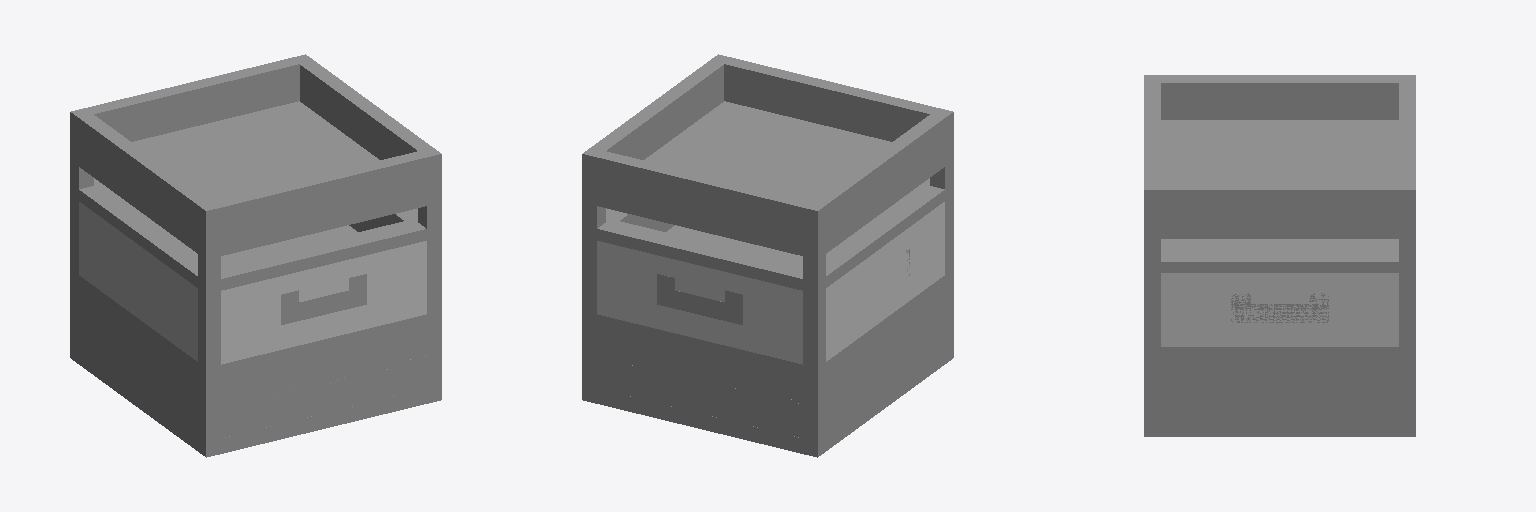
File: firepit.obj
The picture shows the model from 3 angles: view 1: azimuth 30°, elevation 25°; view 2: azimuth 150°, elevation 25°; view 3: azimuth 270°, elevation 25°; orthographic projection.
Visible parts, largest first — view 1: IngotHolderBase_Cube.026, FuelHolderWallNegY_Cube.003, DestroyedMetalHolderWallNegY_Cube.015, DestroyedMetalBasin_Cube.019, IngotHolderRimNegY_Cube.038, FuelHolderWallNegX_Cube.016, DestroyedMetalHolderWallNegX_Cube.004, IngotHolderRimPosY_Cube.037, IngotHolderRimNegX_Cube.035, FuelHolderBottom_Cube.001, IngotHolderRimPosX_Cube.036, DestroyedMetalBasinConnectorNegY_Cube.022 (+9 smaller); view 2: IngotHolderBase_Cube.026, FuelHolderWallPosY_Cube.002, DestroyedMetalHolderWallPosY_Cube.013, DestroyedMetalBasin_Cube.019, IngotHolderRimPosY_Cube.037, FuelHolderWallNegX_Cube.016, DestroyedMetalHolderWallNegX_Cube.004, IngotHolderRimNegY_Cube.038, IngotHolderRimNegX_Cube.035, FuelHolderBottom_Cube.001, IngotHolderRimPosX_Cube.036, DestroyedMetalBasinConnectorPosY_Cube.023 (+9 smaller); view 3: IngotHolderBase_Cube.026, FuelHolderWallPosX_Cube.005, DestroyedMetalHolderWallPosX_Cube.014, IngotHolderRimNegX_Cube.035, IngotHolderRimPosX_Cube.036, DestroyedMetalBasin_Cube.019, FuelHolderBottom_Cube.001, IngotHolderRimPosY_Cube.037, IngotHolderRimNegY_Cube.038, FuelHolderCornerPosXNegY_Cube.007, FuelHolderCornerPosXPosY_Cube.009, DestroyedMetalHolderCornerPosXNegY_Cube.012 (+4 smaller).
Part boxes in pixels (bbox=[...]): IngotHolderBase_Cube.026: bbox=[70, 101, 441, 259]; FuelHolderWallNegY_Cube.003: bbox=[221, 314, 426, 437]; DestroyedMetalHolderWallNegY_Cube.015: bbox=[221, 241, 426, 364]; DestroyedMetalBasin_Cube.019: bbox=[70, 178, 441, 293]; IngotHolderRimNegY_Cube.038: bbox=[213, 151, 426, 244]; FuelHolderWallNegX_Cube.016: bbox=[79, 276, 197, 435]; DestroyedMetalHolderWallNegX_Cube.004: bbox=[79, 202, 197, 361]; IngotHolderRimPosY_Cube.037: bbox=[86, 58, 299, 141]; IngotHolderRimNegX_Cube.035: bbox=[79, 114, 211, 241]; FuelHolderBottom_Cube.001: bbox=[70, 343, 441, 457]; IngotHolderRimPosX_Cube.036: bbox=[300, 61, 432, 159]; DestroyedMetalBasinConnectorNegY_Cube.022: bbox=[281, 274, 366, 324]; IngotHolderBase_Cube.026: bbox=[582, 101, 953, 259]; FuelHolderWallPosY_Cube.002: bbox=[597, 314, 802, 437]; DestroyedMetalHolderWallPosY_Cube.013: bbox=[597, 241, 802, 364]; DestroyedMetalBasin_Cube.019: bbox=[582, 178, 953, 293]; IngotHolderRimPosY_Cube.037: bbox=[597, 151, 810, 244]; FuelHolderWallNegX_Cube.016: bbox=[826, 276, 944, 435]; DestroyedMetalHolderWallNegX_Cube.004: bbox=[826, 202, 944, 361]; IngotHolderRimNegY_Cube.038: bbox=[724, 58, 937, 141]; IngotHolderRimNegX_Cube.035: bbox=[812, 114, 944, 241]; FuelHolderBottom_Cube.001: bbox=[582, 343, 953, 457]; IngotHolderRimPosX_Cube.036: bbox=[591, 61, 723, 159]; DestroyedMetalBasinConnectorPosY_Cube.023: bbox=[657, 274, 742, 324]; IngotHolderBase_Cube.026: bbox=[1144, 120, 1415, 238]; FuelHolderWallPosX_Cube.005: bbox=[1161, 347, 1398, 420]; DestroyedMetalHolderWallPosX_Cube.014: bbox=[1161, 273, 1398, 346]; IngotHolderRimNegX_Cube.035: bbox=[1161, 75, 1398, 119]; IngotHolderRimPosX_Cube.036: bbox=[1161, 183, 1398, 226]; DestroyedMetalBasin_Cube.019: bbox=[1144, 239, 1415, 272]; FuelHolderBottom_Cube.001: bbox=[1144, 421, 1415, 436]; IngotHolderRimPosY_Cube.037: bbox=[1399, 83, 1415, 182]; IngotHolderRimNegY_Cube.038: bbox=[1144, 83, 1160, 182]; FuelHolderCornerPosXNegY_Cube.007: bbox=[1144, 347, 1160, 420]; FuelHolderCornerPosXPosY_Cube.009: bbox=[1399, 347, 1415, 420]; DestroyedMetalHolderCornerPosXNegY_Cube.012: bbox=[1144, 273, 1160, 346].
Bounding box in the file's own units: 1 × 1 × 1.